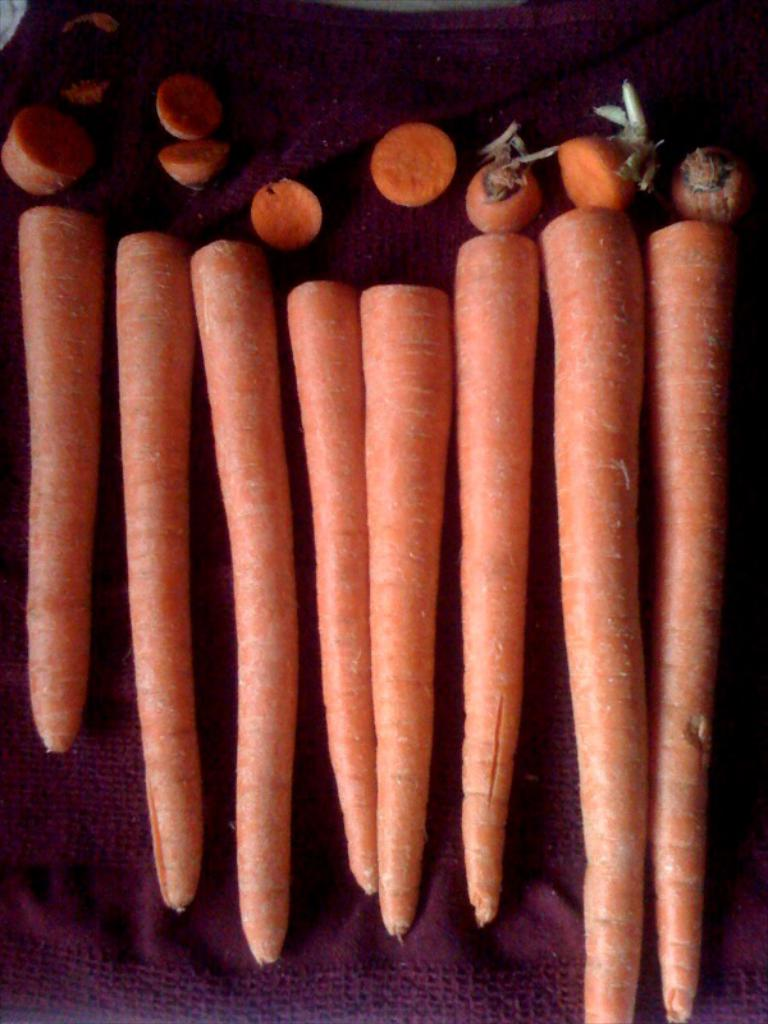Carrot: (284, 77, 755, 1024), (188, 240, 300, 965), (117, 231, 206, 914), (18, 205, 103, 755), (1, 107, 96, 199), (250, 178, 322, 252), (155, 73, 222, 143), (156, 140, 230, 194)
